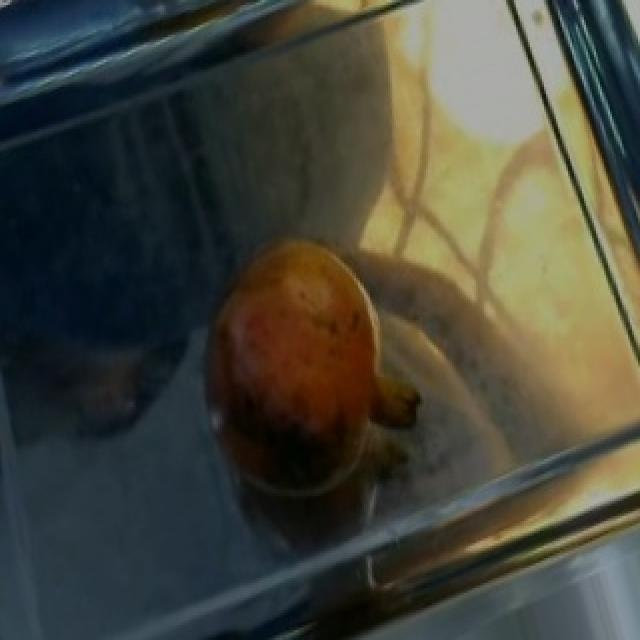fruit: (186, 211, 414, 481)
